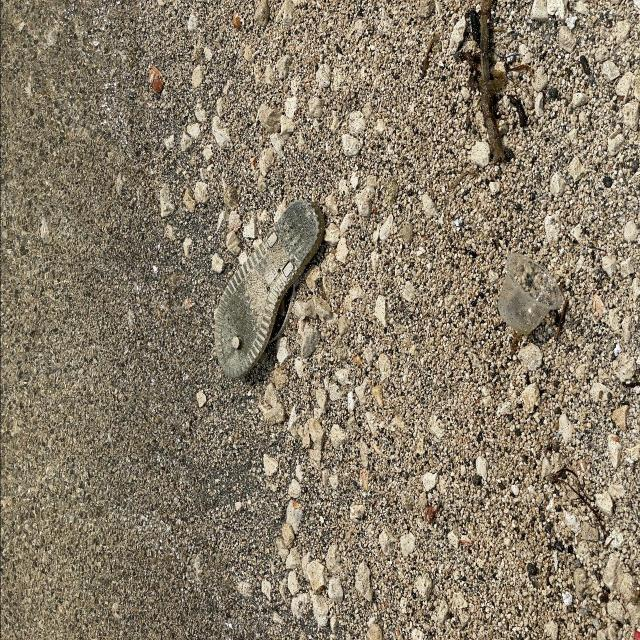plastic_waste: (501, 253, 565, 337)
rubber_waste: (214, 200, 326, 380)
